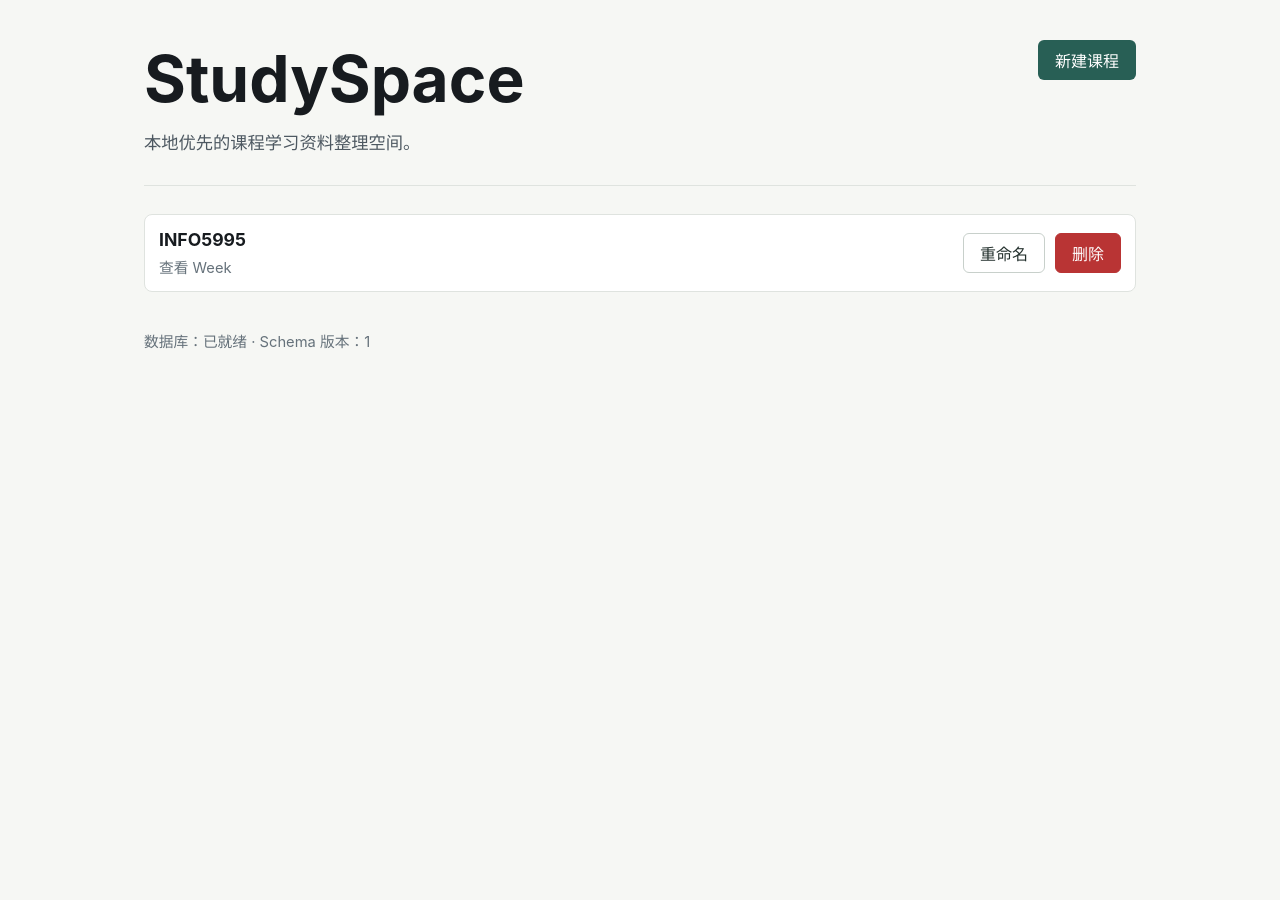
Test: HomePage course management › 删除前显示确认
Click the button "删除".
click(1088, 253)  # box x1=1055 y1=233 x2=1121 y2=273
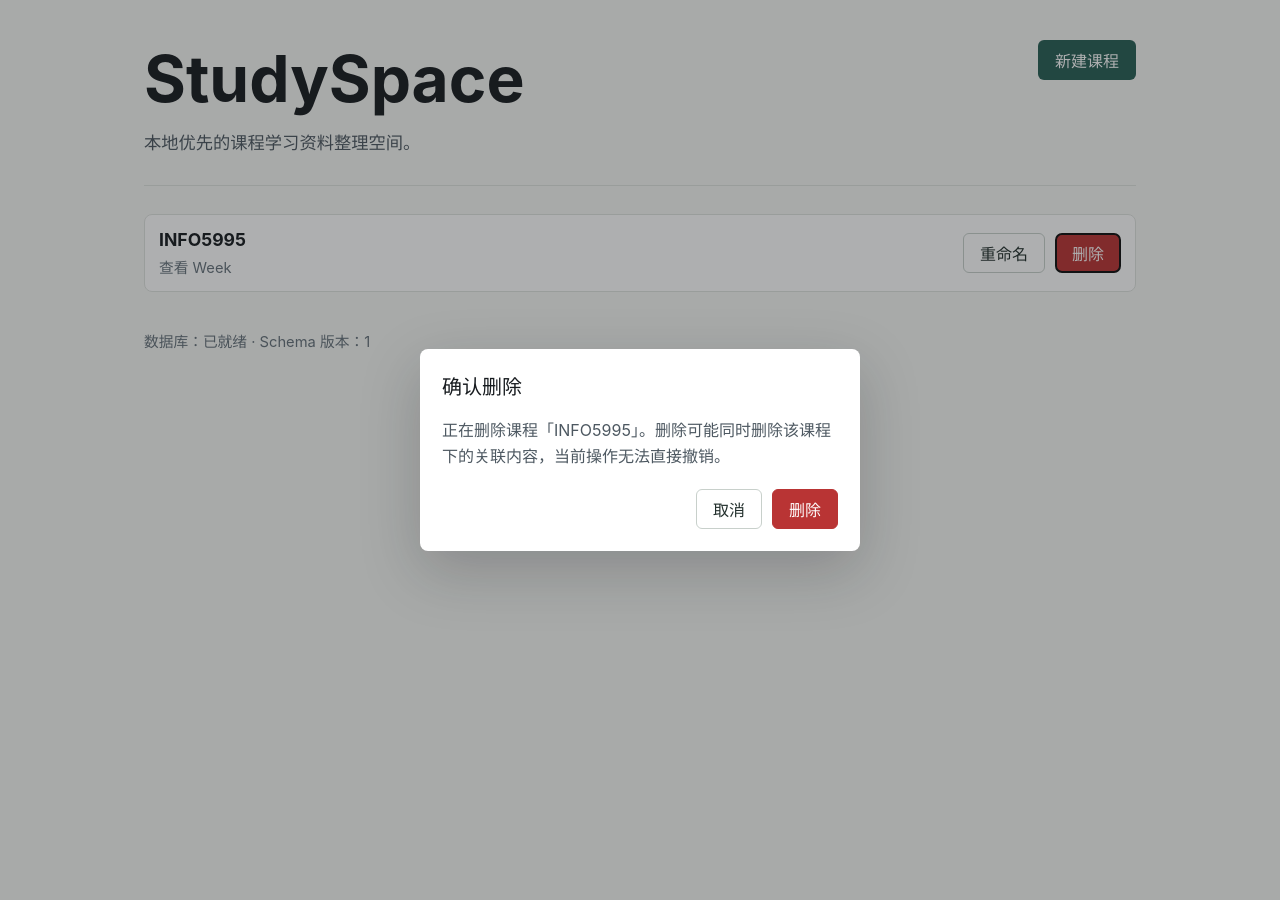
Now the element labelled "确认删除" is shown, box x1=420 y1=349 x2=860 y2=551
Now the text "正在删除课程「INFO5995」。删除可能同时删除该课程下的关联内容，当前操作无法直接撤销。" is shown, box x1=442 y1=418 x2=838 y2=469
